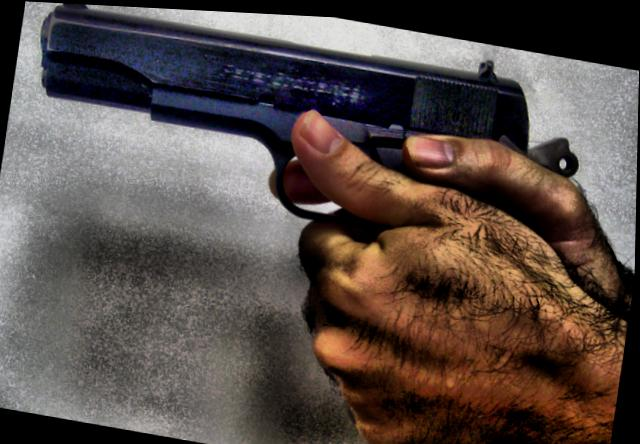pistol: (16, 1, 616, 282)
